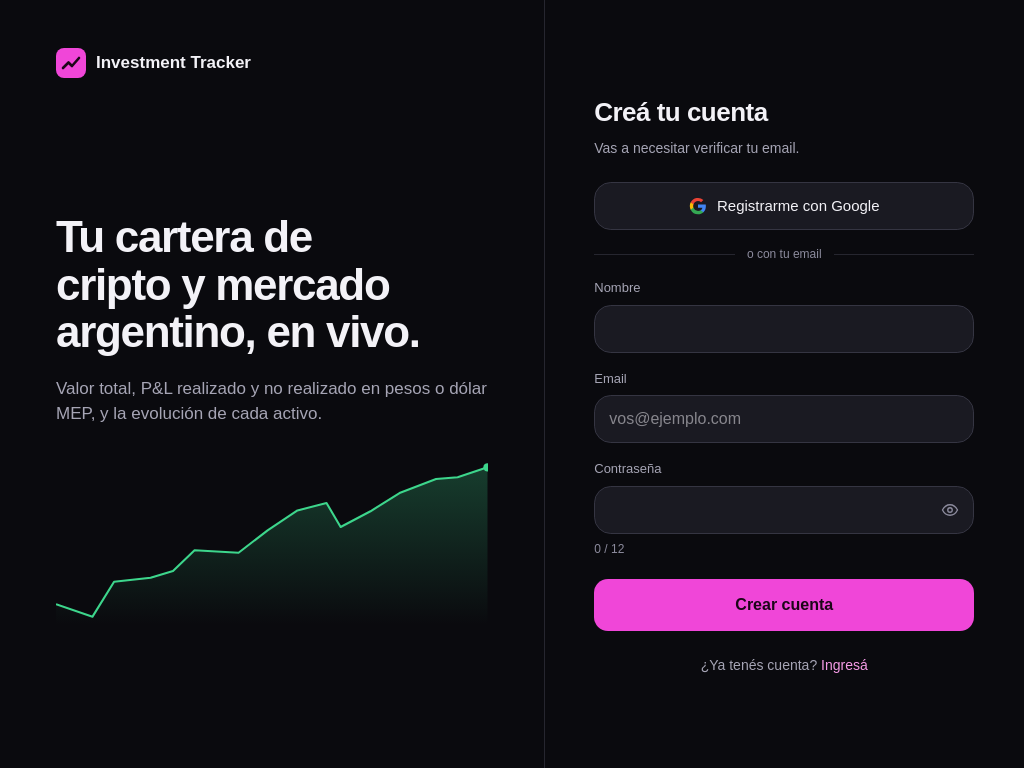
Test: /register › tells the user to wait when rate limited
This screenshot has width=1024, height=768.
Expected: the heading "Creá tu cuenta" is shown, 594,97 -> 768,127
Type "  Rami  " into the field labelled "Nombre" at (784, 329), box 594,305 -> 974,353
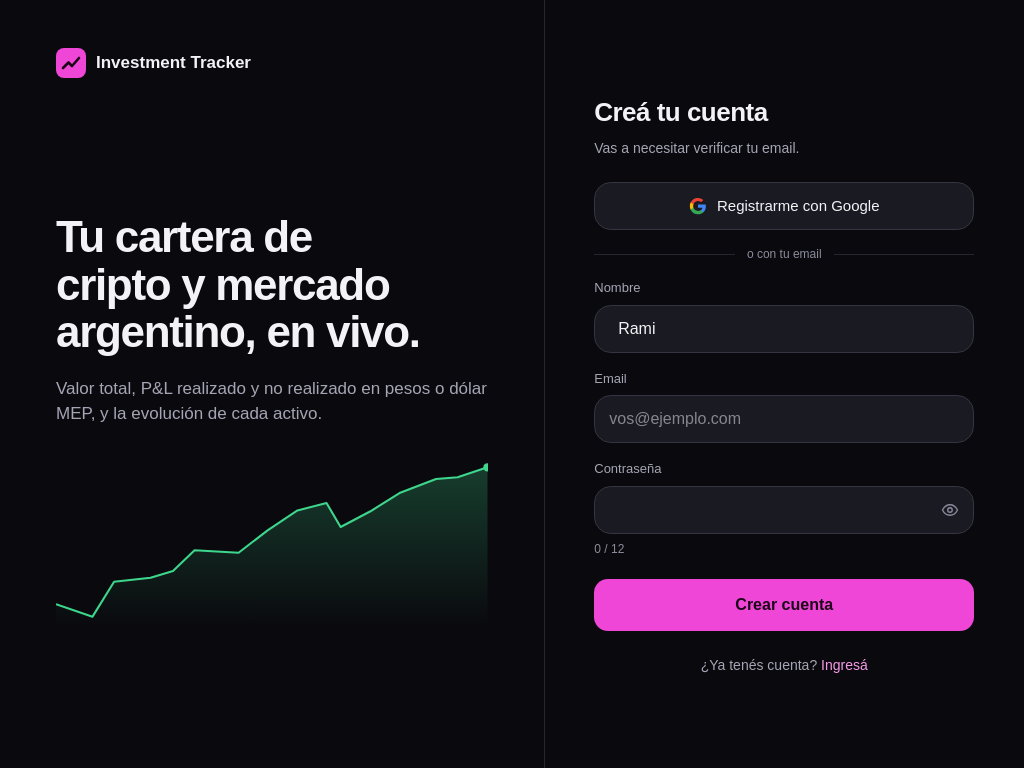
Type "rami@example.com" into the field labelled "Email" at (784, 419), box 594,395 -> 974,443
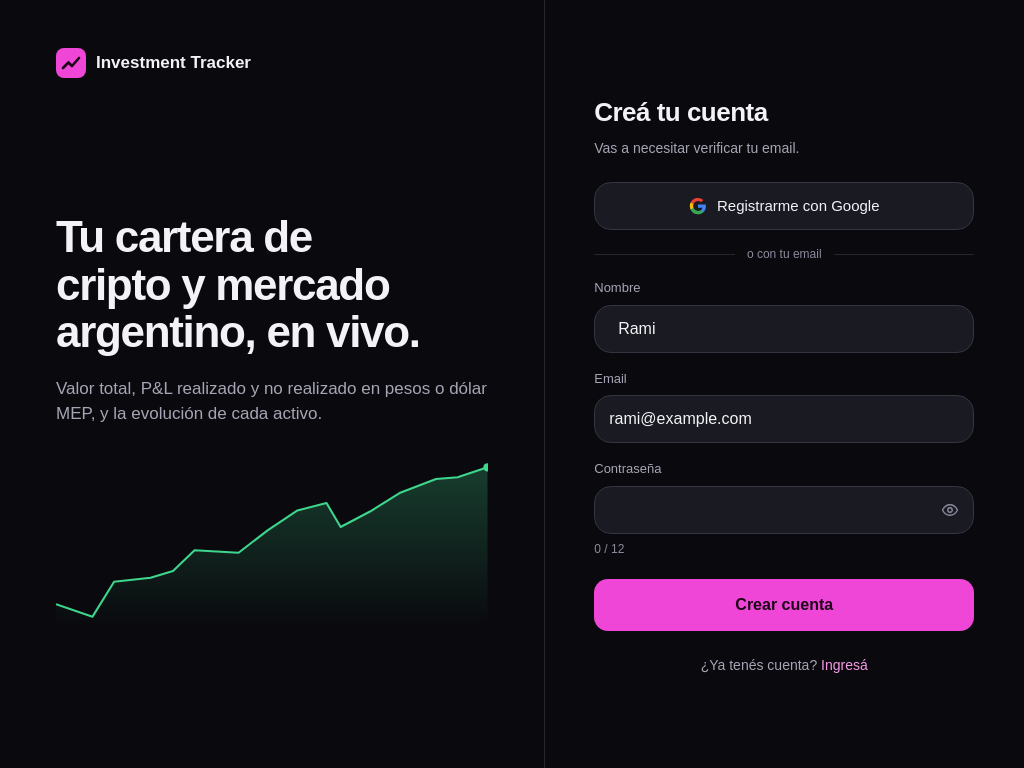
Type "correct horse battery" into the password field labelled "Contraseña" at (784, 510), box 594,486 -> 974,534
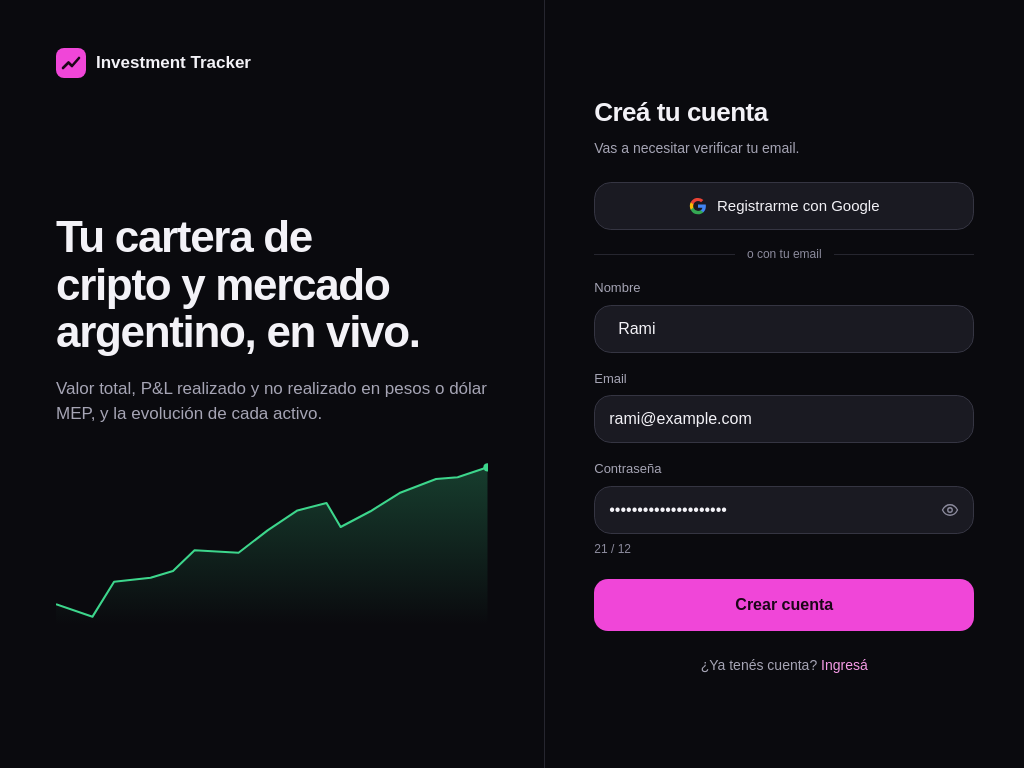
Click the button "Crear cuenta" at (784, 605), box 594,579 -> 974,631
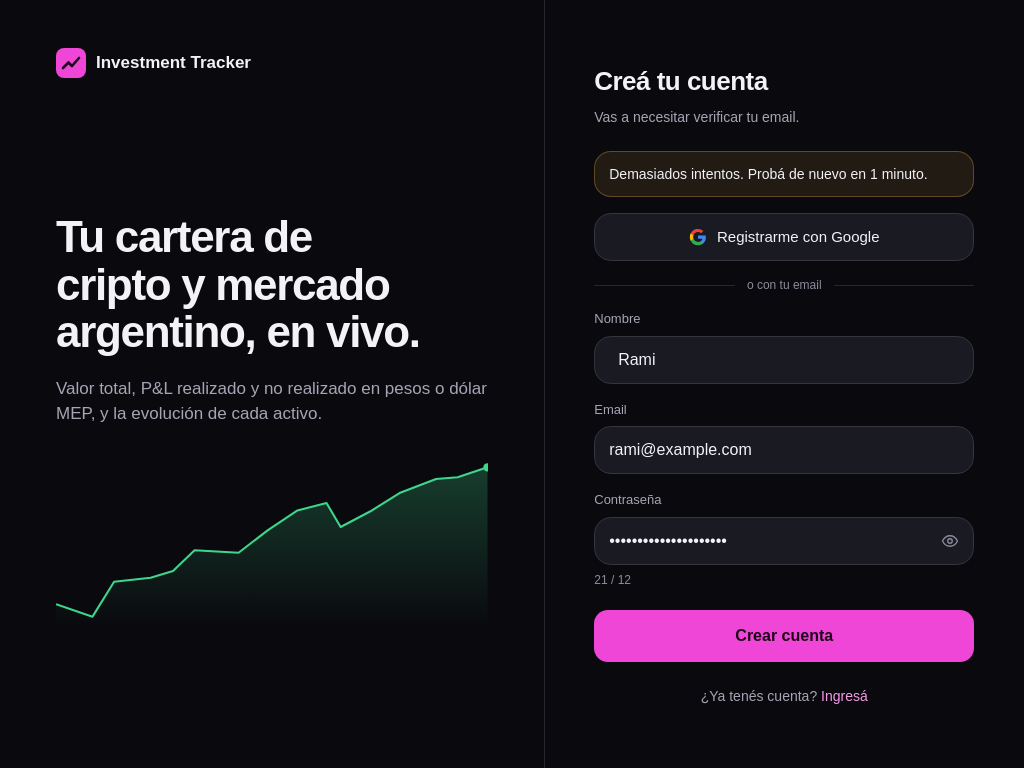
Expected: the heading "Creá tu cuenta" is shown, 594,66 -> 768,96
Result: the message reads "Demasiados intentos. Probá de nuevo en 1 minuto." at 609,166 -> 928,182
